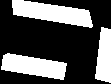parkingspot: (12, 0, 92, 27), (1, 53, 66, 79), (95, 27, 111, 82)
